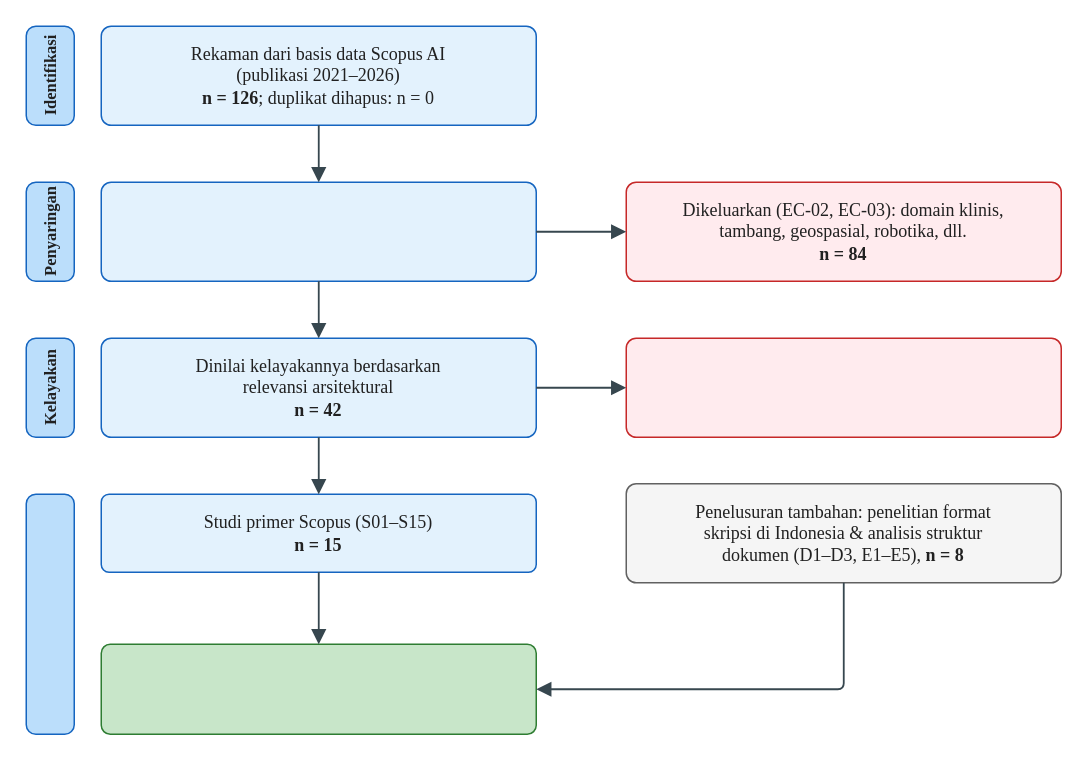
This 1088x761 diagram has some shape labels left out. Here are the shapes that lost their labels. From the top down, the centre of each, then its label:
the point at 318,231: Rekaman disaring berdasarkan judul & fokus studi n = 126
the point at 843,387: Dikeluarkan (EC-04): chatbot bebas, terjemahan mesin, media sosial n = 27
the point at 49,613: Termasuk
the point at 318,688: Total studi yang dikaji n = 23
